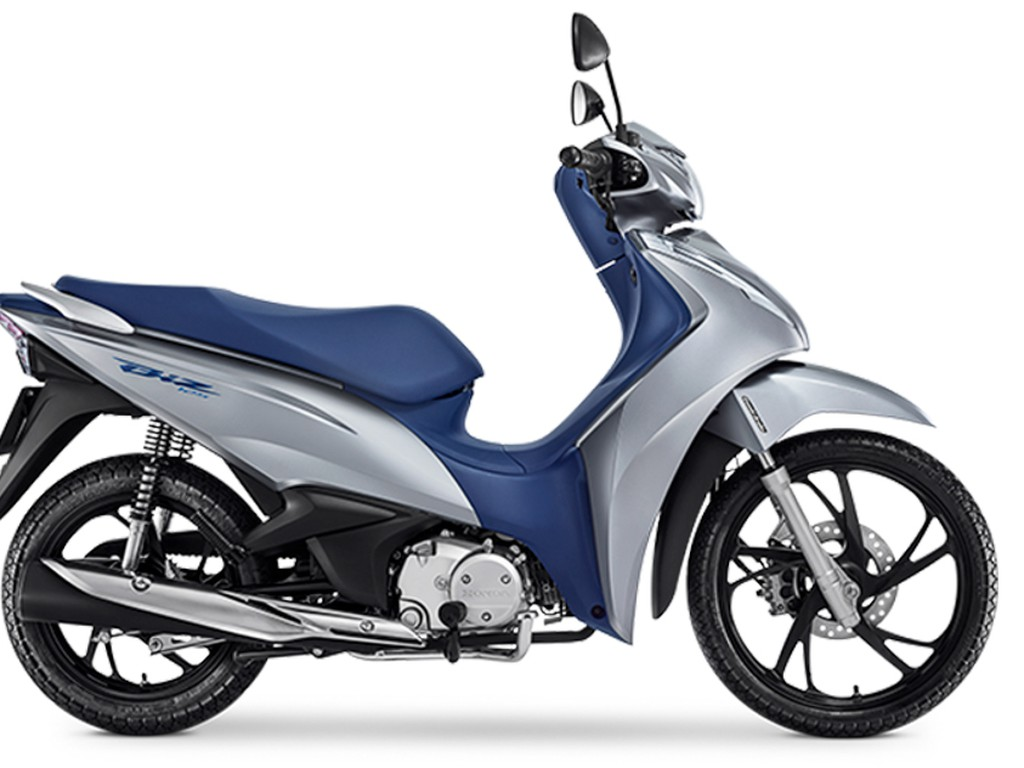motorbike: (29, 35, 1001, 738)
